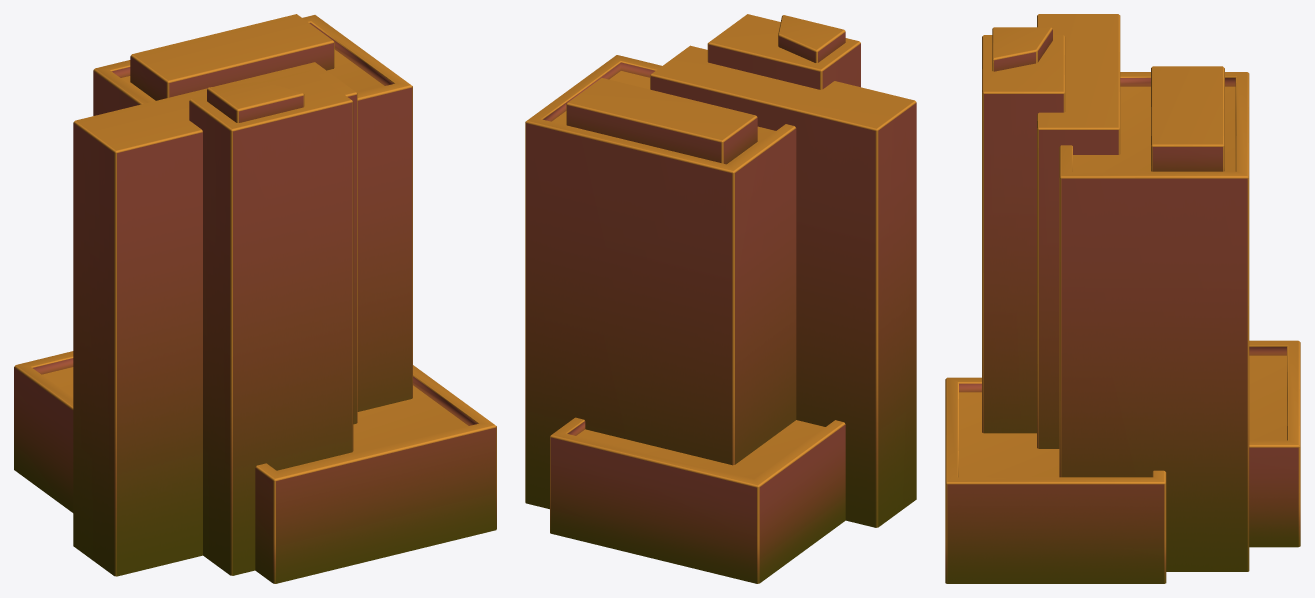
File: prop_BuildingMedium03.fbx
3 views of the same model, side by side, from view 1: azimuth 30°, elevation 25°; view 2: azimuth 150°, elevation 25°; view 3: azimuth 270°, elevation 25° (orthographic). The views are drawn at different scales.
Parts seen in each view (by area): view 1: prop_BuildingMedium03; view 2: prop_BuildingMedium03; view 3: prop_BuildingMedium03.
Boxes of the visible parts, x1,y1,x2,y2 form: prop_BuildingMedium03: (14,14,496,583); prop_BuildingMedium03: (525,14,916,583); prop_BuildingMedium03: (945,14,1300,583).
Size of the model in its own units: 1438 by 1884 by 1361.
